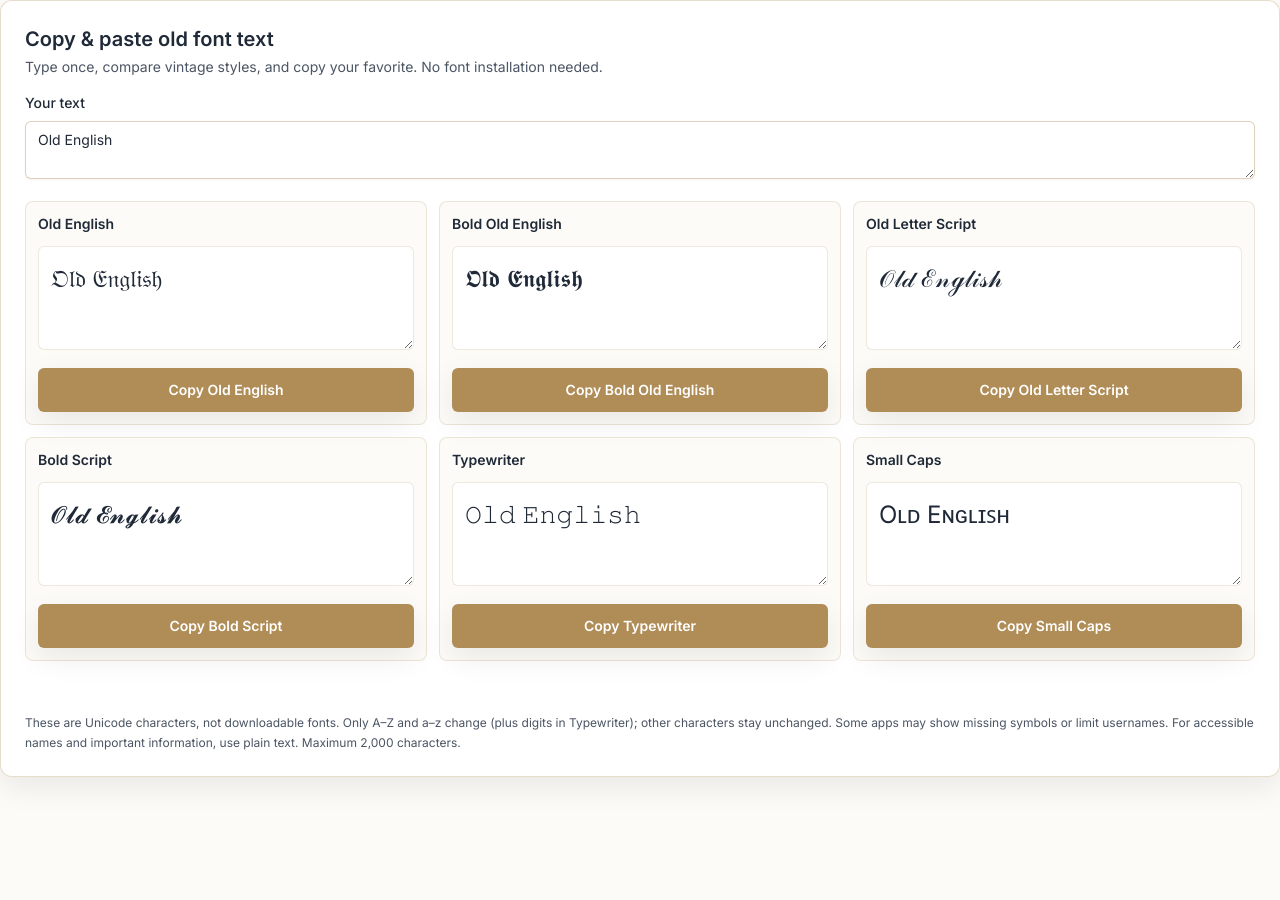
Test: Unicode clipboard interaction › copies generated symbols, then reports success
Replace the text in the text box labelled "Your text" with "Hi 中文". click: (640, 150)
box: left=25, top=121, right=1255, bottom=179
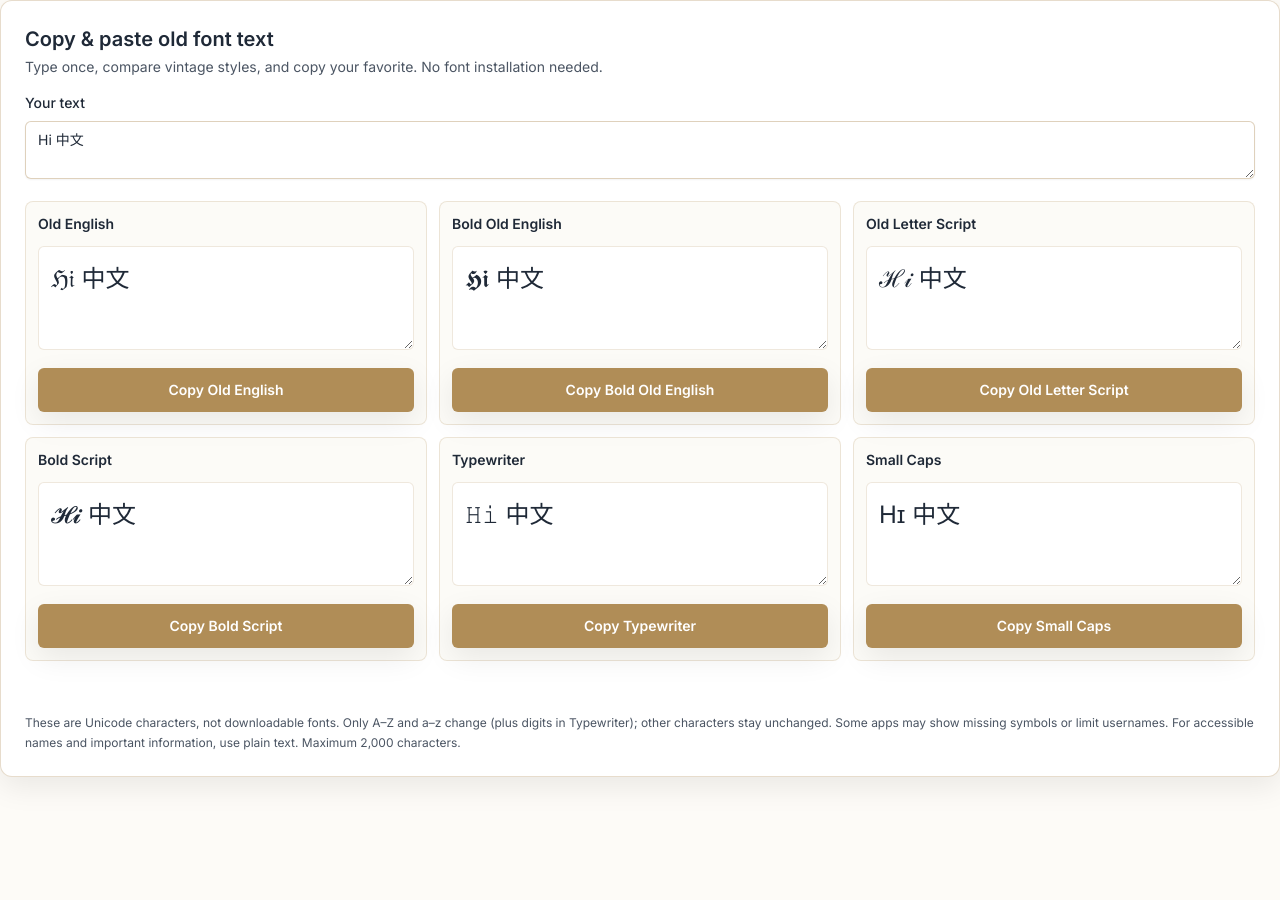
Click the button "Copy Old English". click: (226, 390)
box: left=38, top=368, right=414, bottom=412
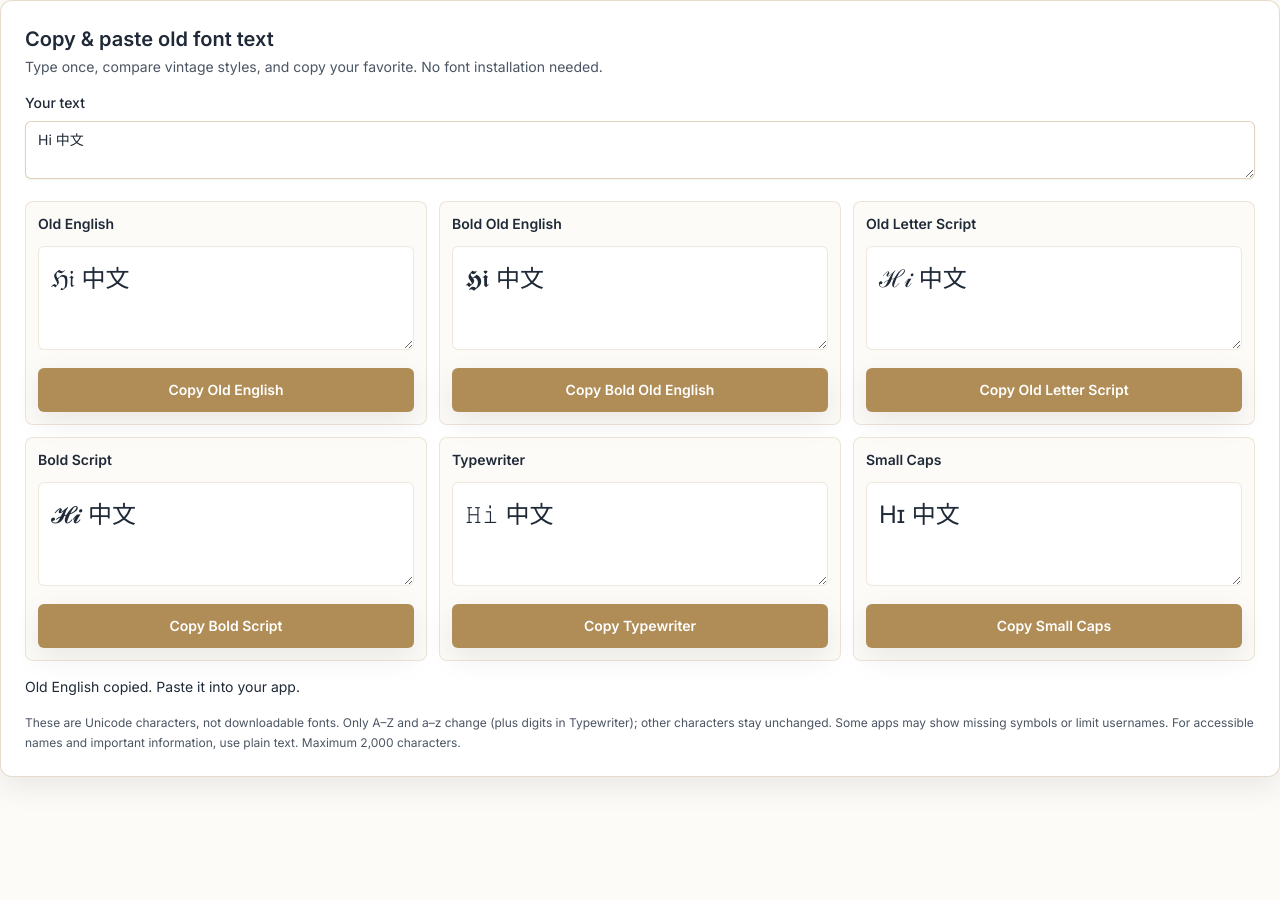
Expected: the message shows "copied", left=25, top=678, right=300, bottom=695
